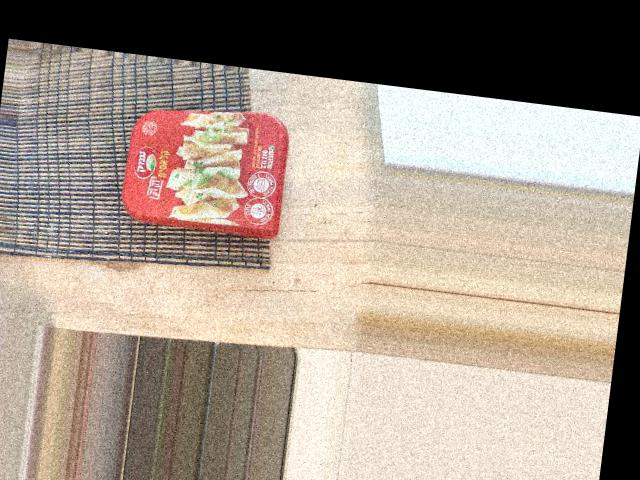cheese: (52, 33, 198, 237)
